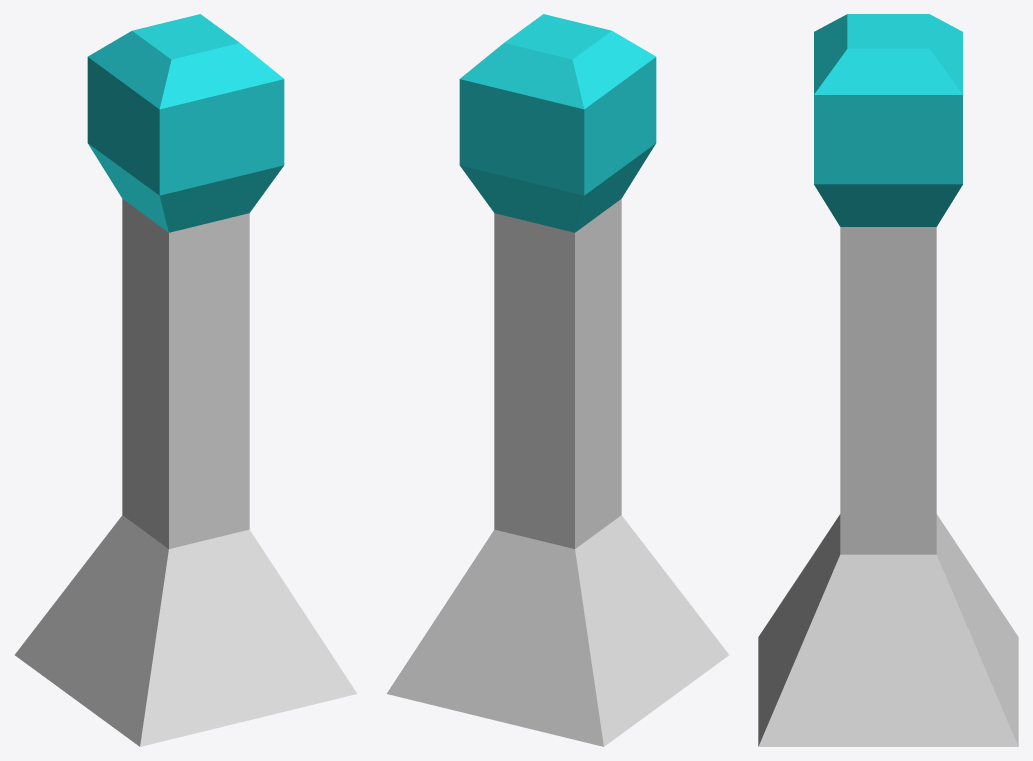
File: ShieldGenerator.glb
3 renders of one model, left to right at view 1: azimuth 30°, elevation 25°; view 2: azimuth 150°, elevation 25°; view 3: azimuth 270°, elevation 25°, orthographic. The views are drawn at different scales.
Parts seen in each view (by area): view 1: ShieldGenerator; view 2: ShieldGenerator; view 3: ShieldGenerator.
Part boxes in pixels (box(x1,y1,x2,y2)): ShieldGenerator: box(15, 14, 357, 746); ShieldGenerator: box(386, 14, 728, 746); ShieldGenerator: box(758, 14, 1018, 746).
Bounding box in the file's own units: 2.33 × 6.54 × 2.33.
